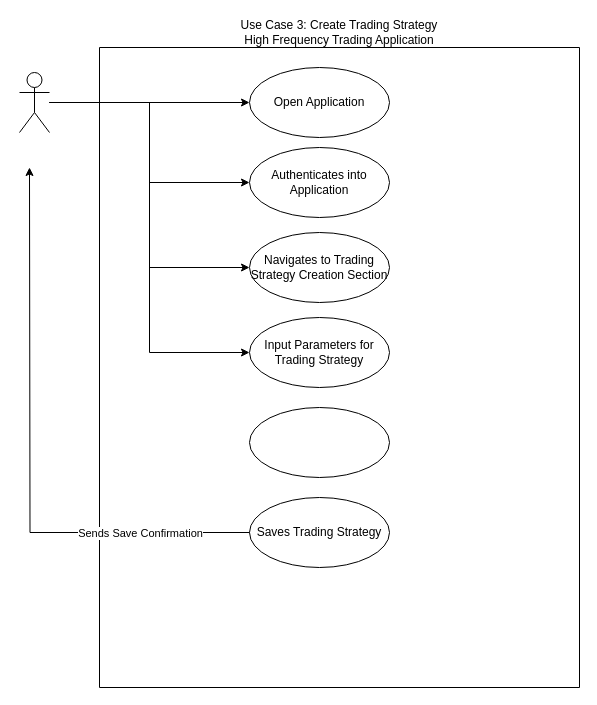
The diagram is 597 pixels wide and 705 high, and some of its shapes have lost their labels. Each missing label, with the centre of its shape:
"Trader" belongs at (34,102).
"Validates Strategy Parameters" belongs at (319,442).
